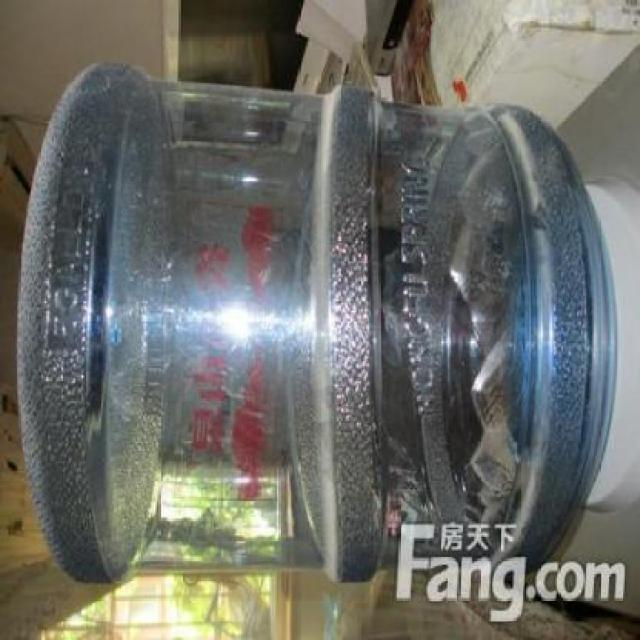coolerbottle: (12, 54, 622, 591)
